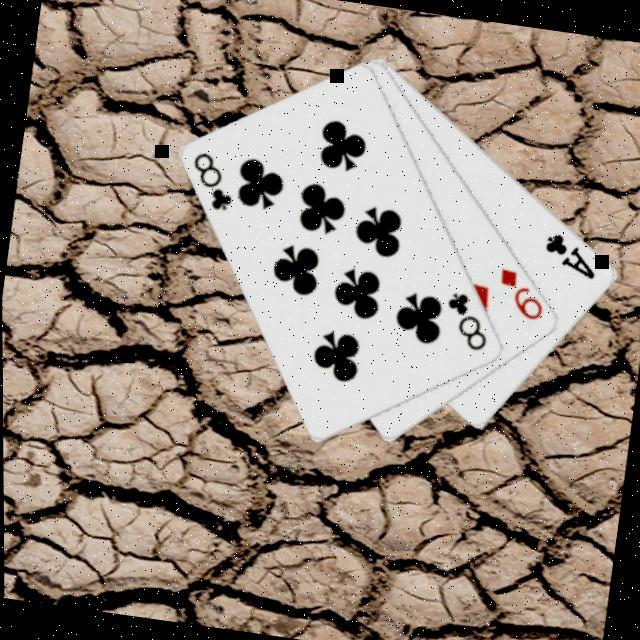8C: (440, 286, 498, 354), (186, 146, 244, 214)
9D: (493, 262, 554, 323)
AC: (540, 227, 605, 283)
